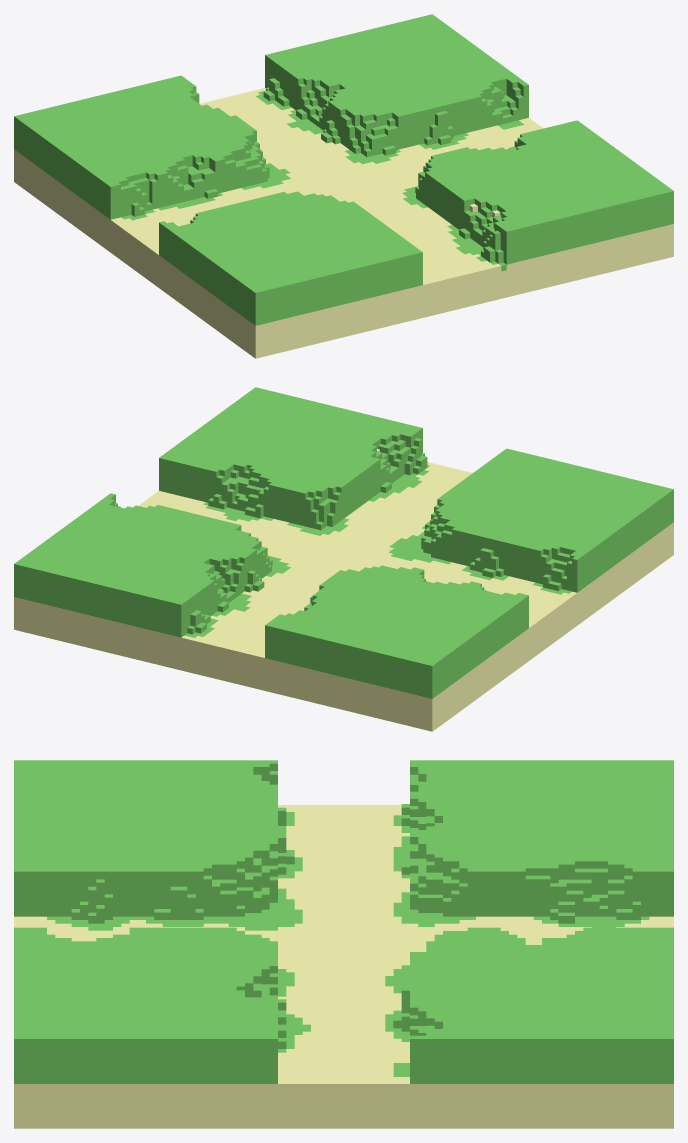
Rendered from Crossroad Path Plains Tile 1.obj.
3 views of the same model, one above another, from view 1: azimuth 30°, elevation 25°; view 2: azimuth 150°, elevation 25°; view 3: azimuth 270°, elevation 25° (orthographic). The views are drawn at different scales.
Bounding box in the file's own units: 8 × 1.2 × 8.
Materials: 1 (1 with a texture image).
